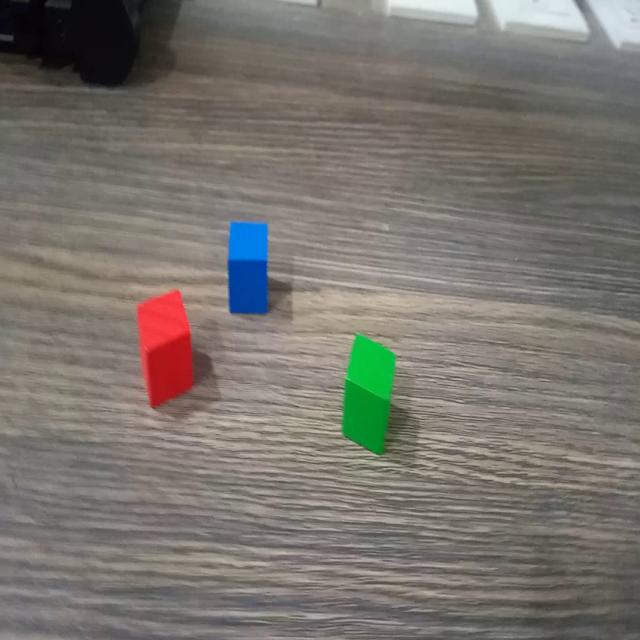cube: (339, 330, 398, 458), (135, 285, 195, 410), (223, 216, 272, 318)
